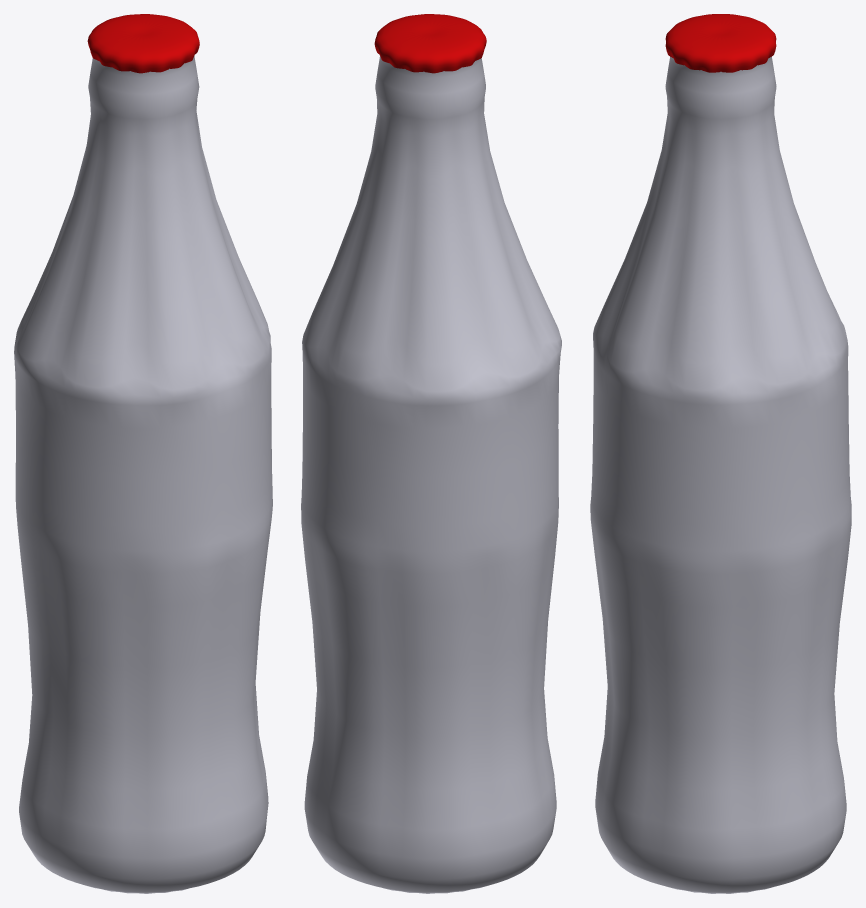
The model's file is bottle.obj.
The picture shows the model from 3 angles, left to right: view 1: azimuth 30°, elevation 25°; view 2: azimuth 150°, elevation 25°; view 3: azimuth 270°, elevation 25°; orthographic projection.
Visible parts, largest first — view 1: Bottle, Lid; view 2: Bottle, Lid; view 3: Bottle, Lid.
Boxes of the visible parts, x1,y1,x2,y2 form: Bottle: [14, 55, 272, 893]; Lid: [87, 14, 199, 73]; Bottle: [301, 55, 561, 893]; Lid: [374, 14, 486, 73]; Bottle: [590, 56, 851, 893]; Lid: [665, 14, 776, 72].
Size of the model in its own units: 0.7021 by 2.46 by 0.7057.
